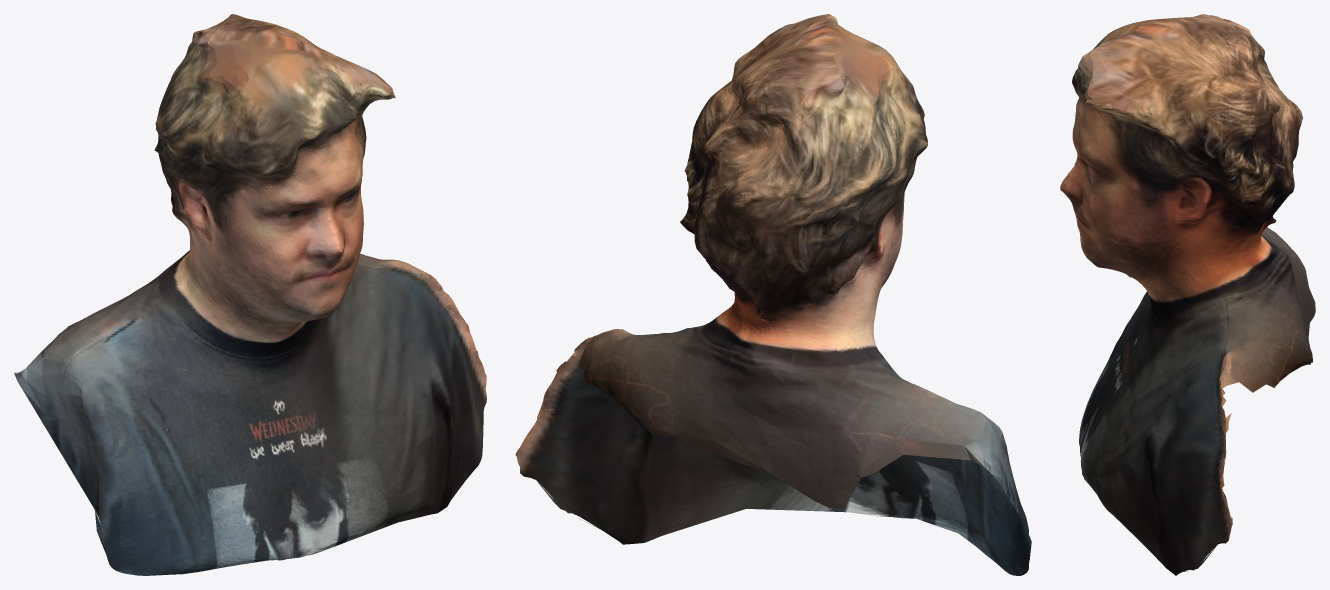
File: 3d_image.obj
3 renders of one model, left to right at view 1: azimuth 30°, elevation 25°; view 2: azimuth 150°, elevation 25°; view 3: azimuth 270°, elevation 25°, orthographic. The views are drawn at different scales.
Parts seen in each view (by area): view 1: mesh; view 2: mesh; view 3: mesh.
Boxes of the visible parts, x1,y1,x2,y2 form: mesh: (14,14,486,575); mesh: (515,14,1031,575); mesh: (1060,14,1315,575).
Bounding box in the file's own units: 0.4995 × 0.5381 × 0.264.
1 material, 1 textured.
